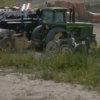Tractor: (26, 4, 100, 59)
